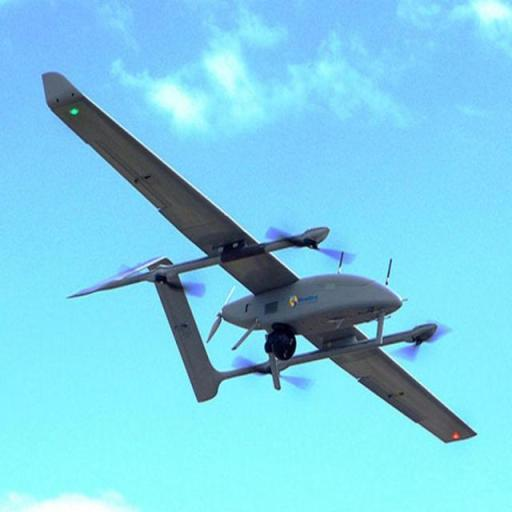uav: (38, 66, 480, 457)
